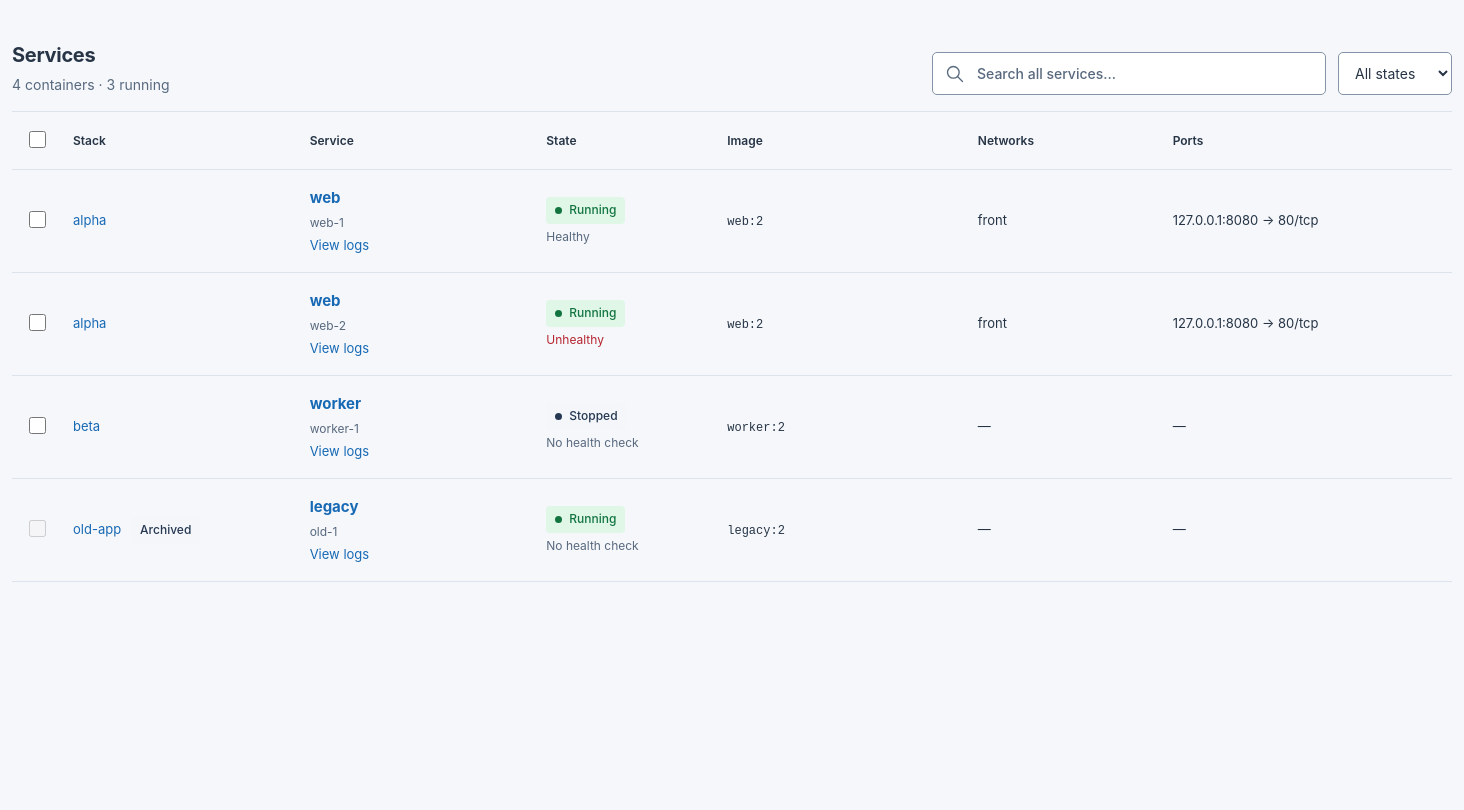
Test: filters services independently by stack, metadata, and state
Type "beta" into the field labelled "Search all services".
click(1129, 74); type("beta")  # box [932,52,1326,95]
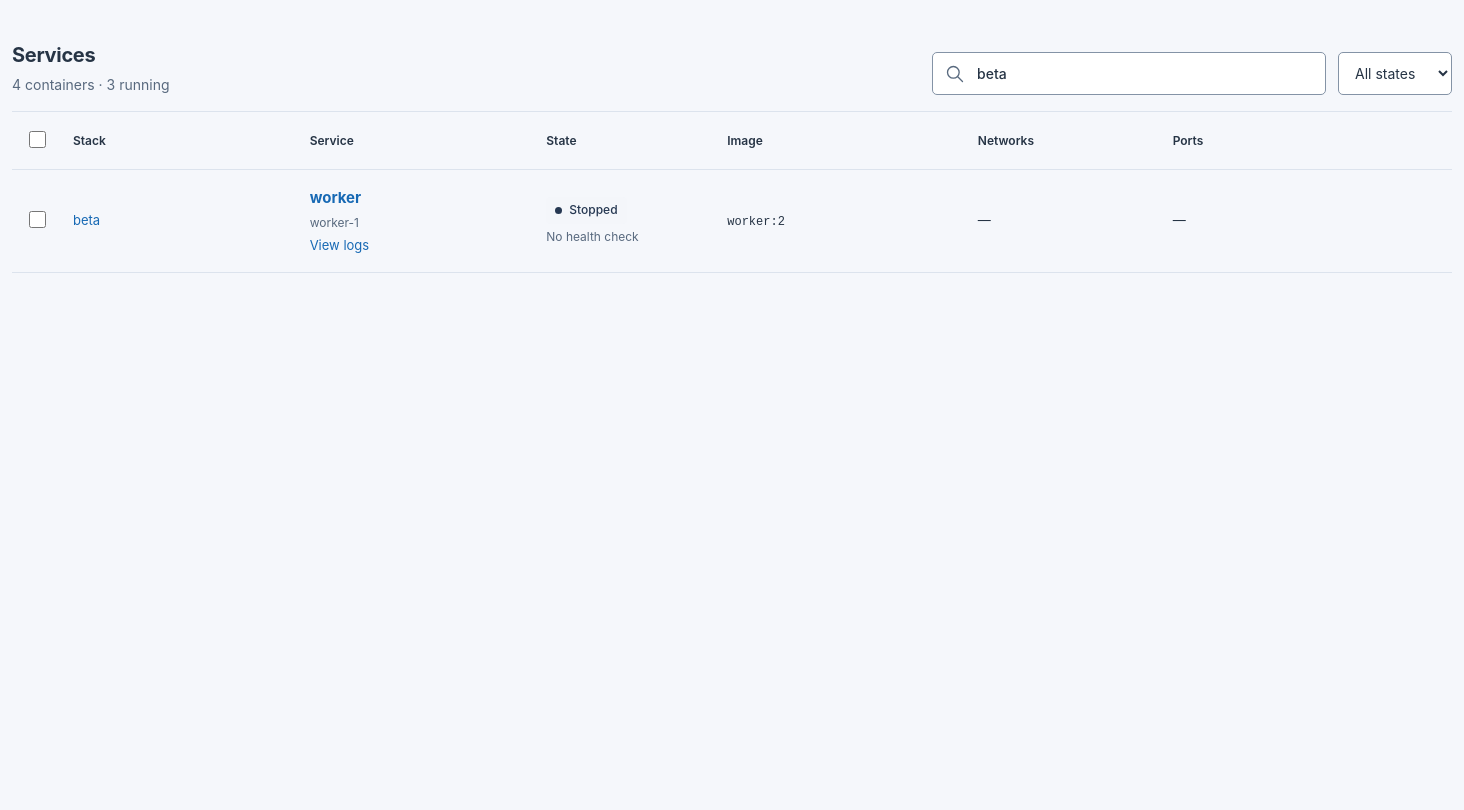
Expected: the text "worker-1" is shown, [310,214,359,232]
Expected: the number of rows is 2, [12,112,1452,170]; [12,170,1452,272]
Replace the text in the field named "Search all services" with "front" at (1129, 74), box [932,52,1326,95]
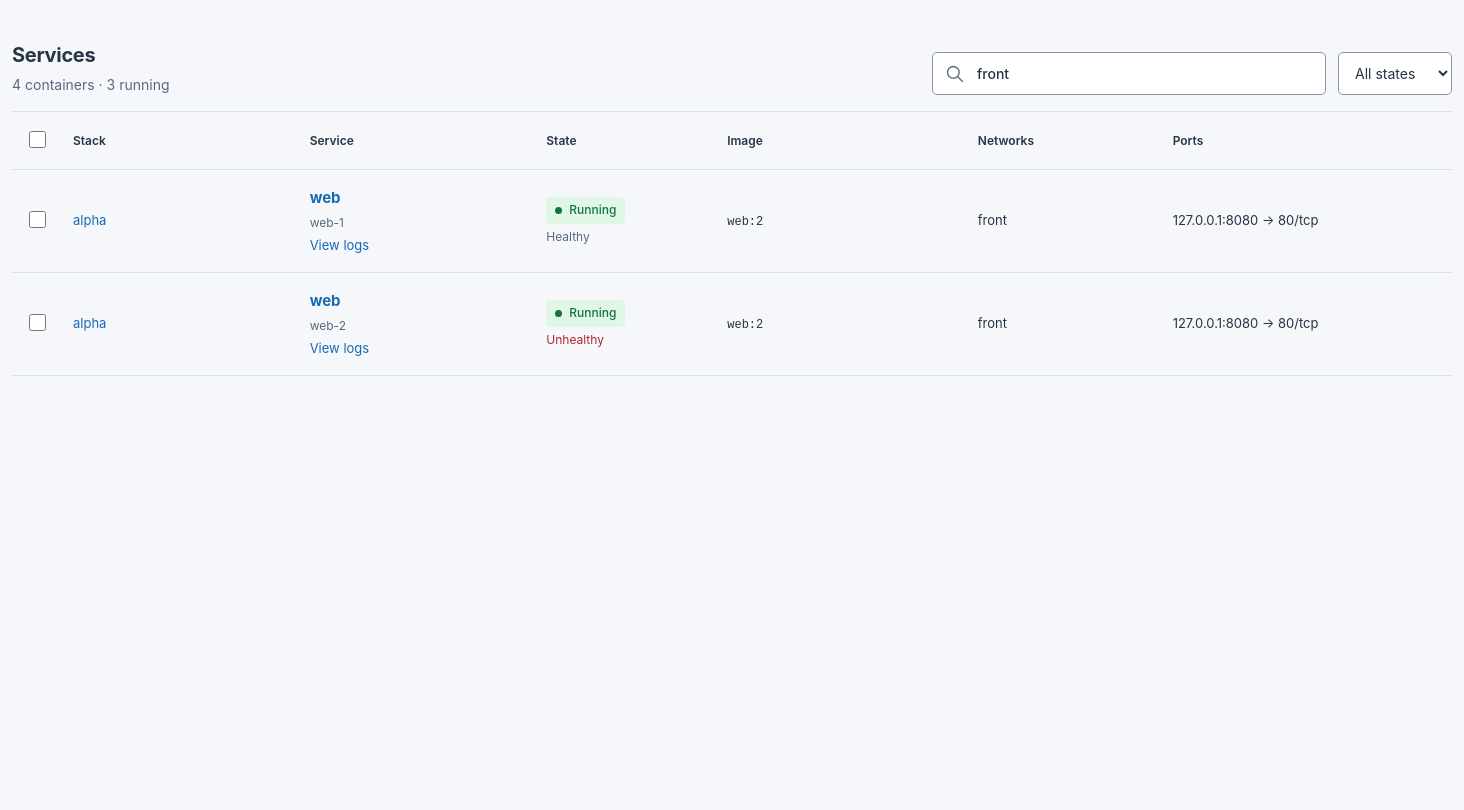
Expected: the number of rows is 3, [12,112,1452,170]; [12,170,1452,272]; [12,272,1452,376]
Clear the field named "Search all services" at (1129, 74), box [932,52,1326,95]
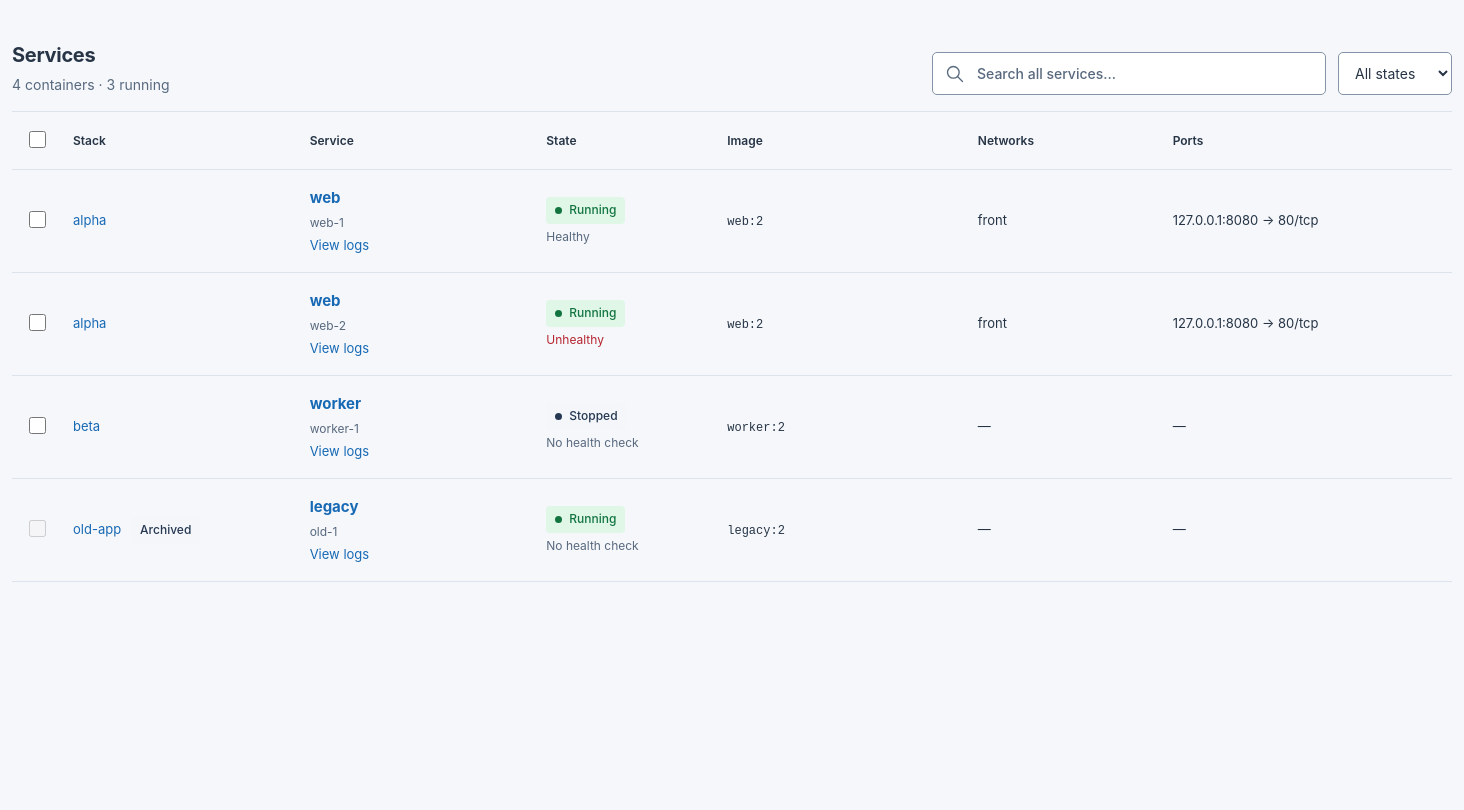
Select "Unhealthy" in the dropdown named "Filter services state" at (1395, 74), box [1338,52,1452,95]
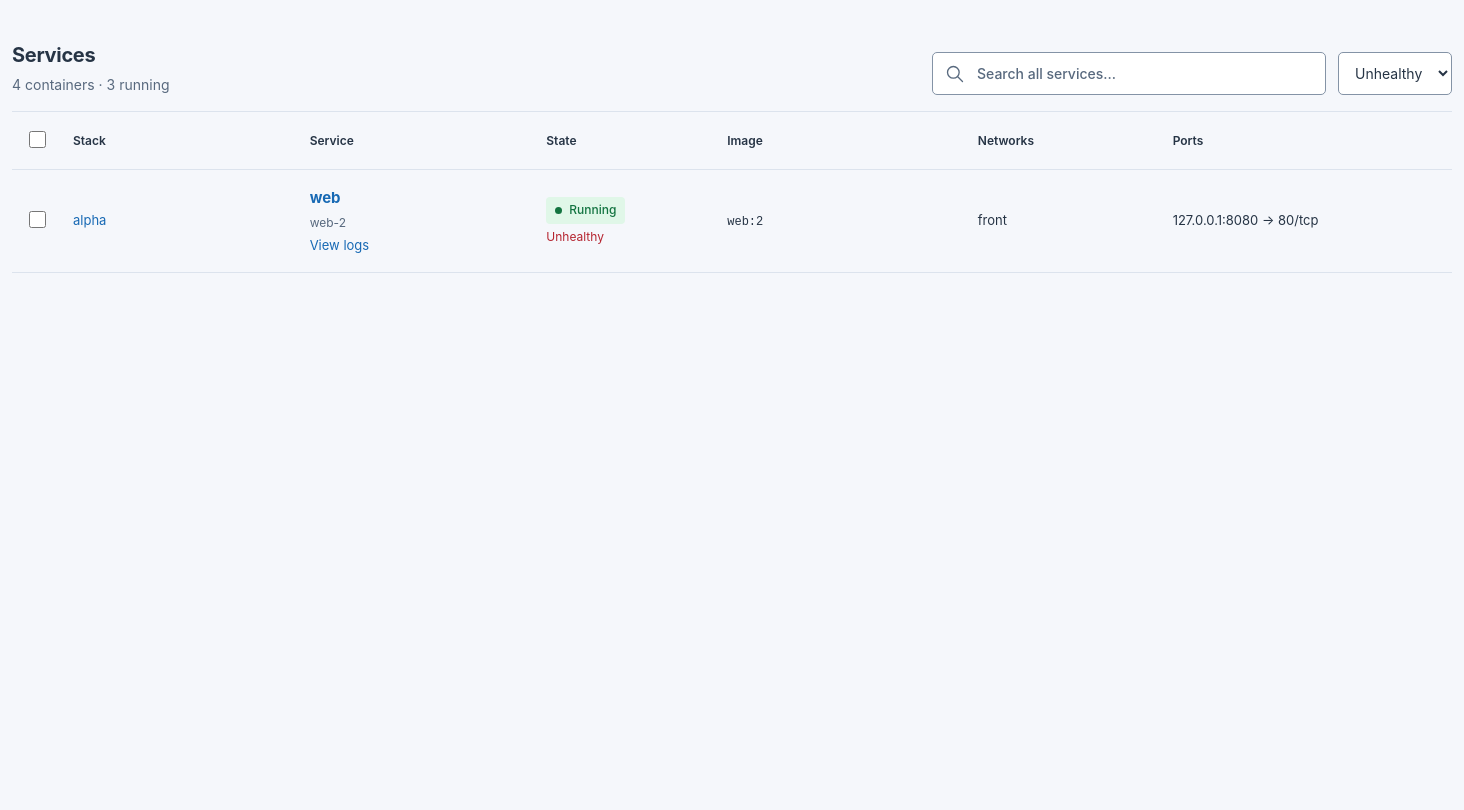
Expected: the text "web-2" is shown, [310,214,346,232]
Expected: the number of rows is 2, [12,112,1452,170]; [12,170,1452,272]
